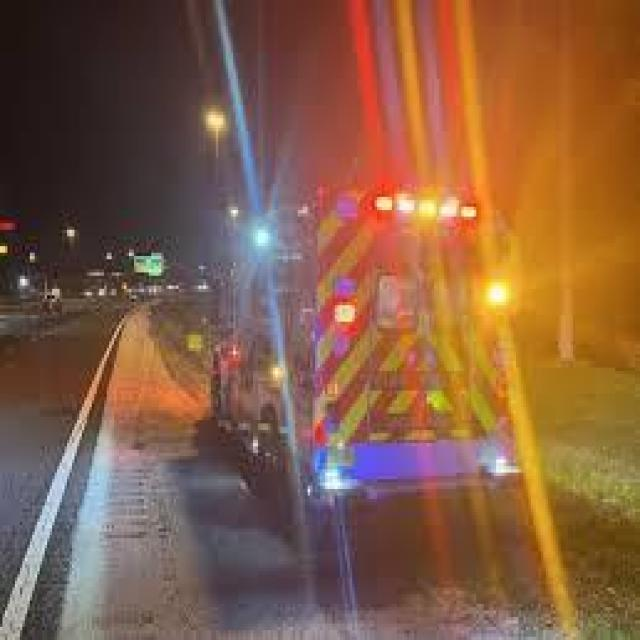ambulance: (321, 292, 514, 505), (236, 204, 304, 473), (358, 178, 488, 257)
